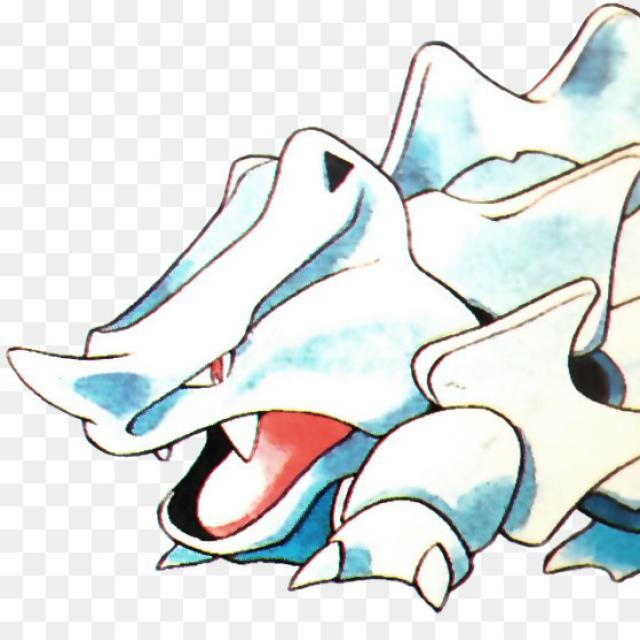Rhyhorn: (14, 142, 640, 579)
